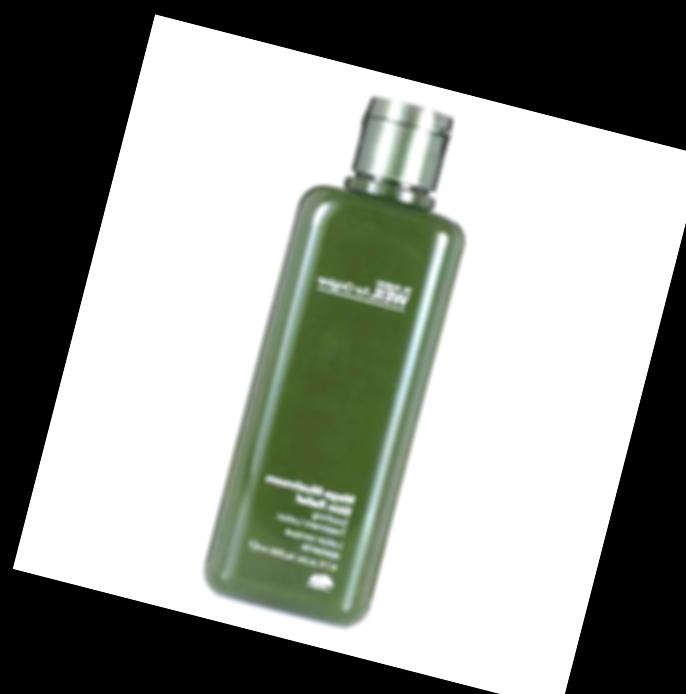cosmetic: (195, 76, 498, 637)
